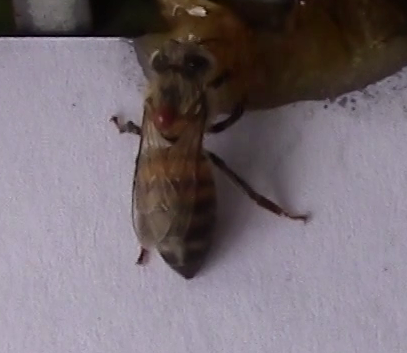Varroa destructor: (152, 101, 179, 134)
